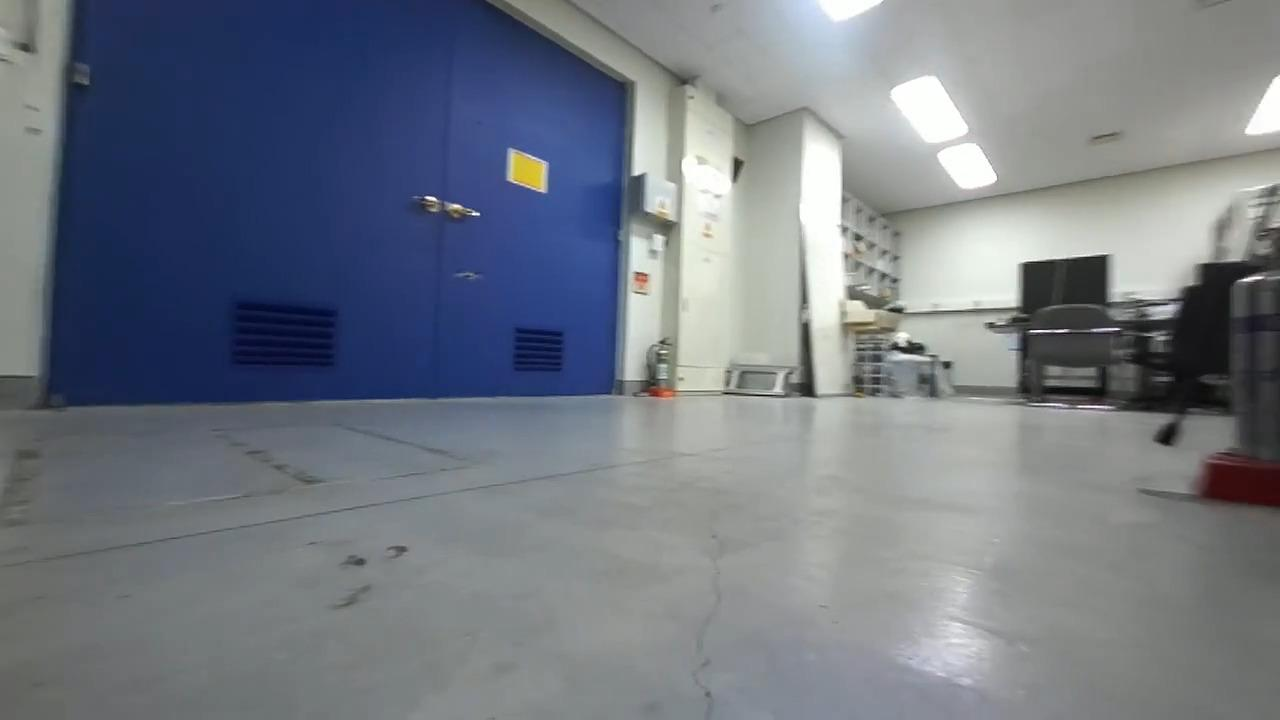crazyflie: (445, 268, 489, 286)
